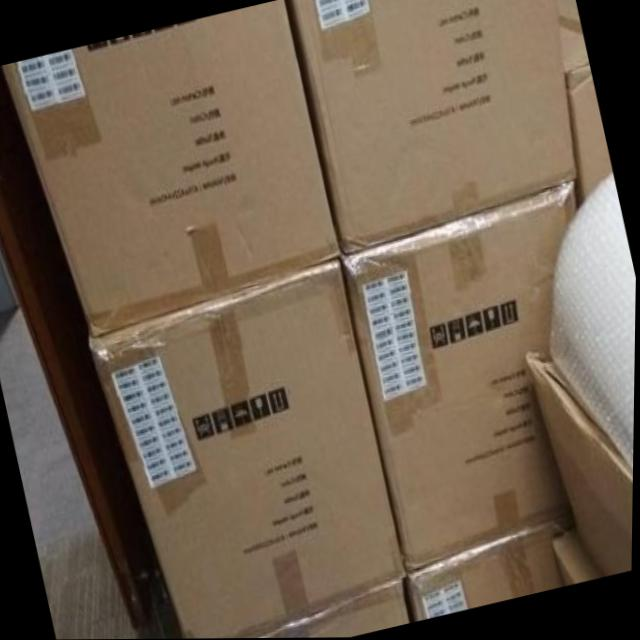box: (91, 261, 409, 639), (3, 0, 340, 337), (342, 182, 578, 572), (284, 0, 576, 257), (530, 353, 635, 584), (407, 515, 574, 620), (556, 0, 613, 207), (252, 579, 412, 638)
